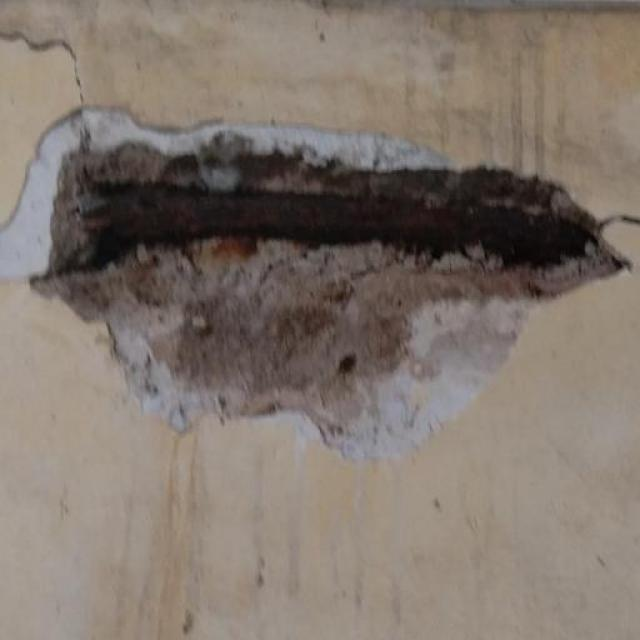spalling: (6, 80, 638, 452)
